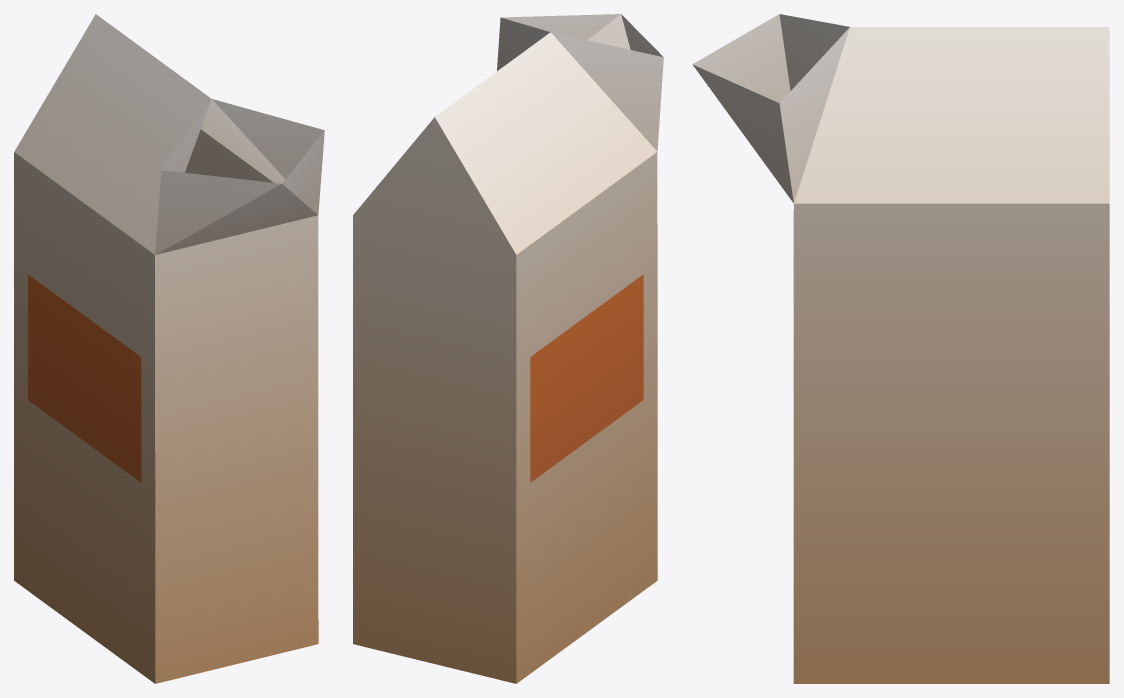
The model's file is carton.gltf.
3 views of the same model, side by side, from view 1: azimuth 30°, elevation 25°; view 2: azimuth 150°, elevation 25°; view 3: azimuth 270°, elevation 25° (orthographic). The views are drawn at different scales.
Parts seen in each view (by area): view 1: Cube; view 2: Cube; view 3: Cube.
Boxes of the visible parts, left/top/right/bottom form: Cube: left=14, top=14, right=324, bottom=683; Cube: left=353, top=14, right=663, bottom=683; Cube: left=692, top=14, right=1109, bottom=683.
Size of the model in its own units: 0.9287 by 2.97 by 1.84.
1 material, 1 textured.
